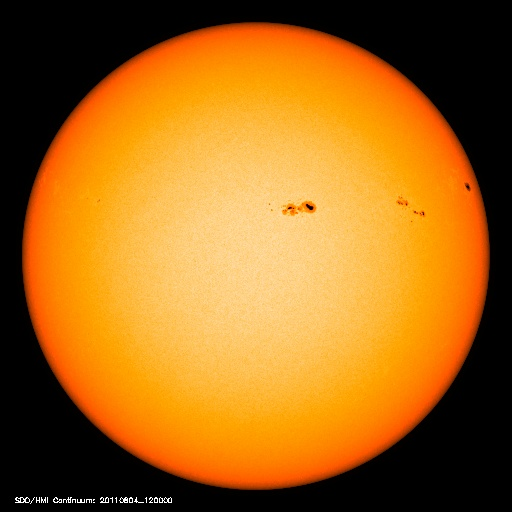sunspot: (260, 188, 327, 226), (385, 187, 437, 228), (454, 173, 480, 199)
